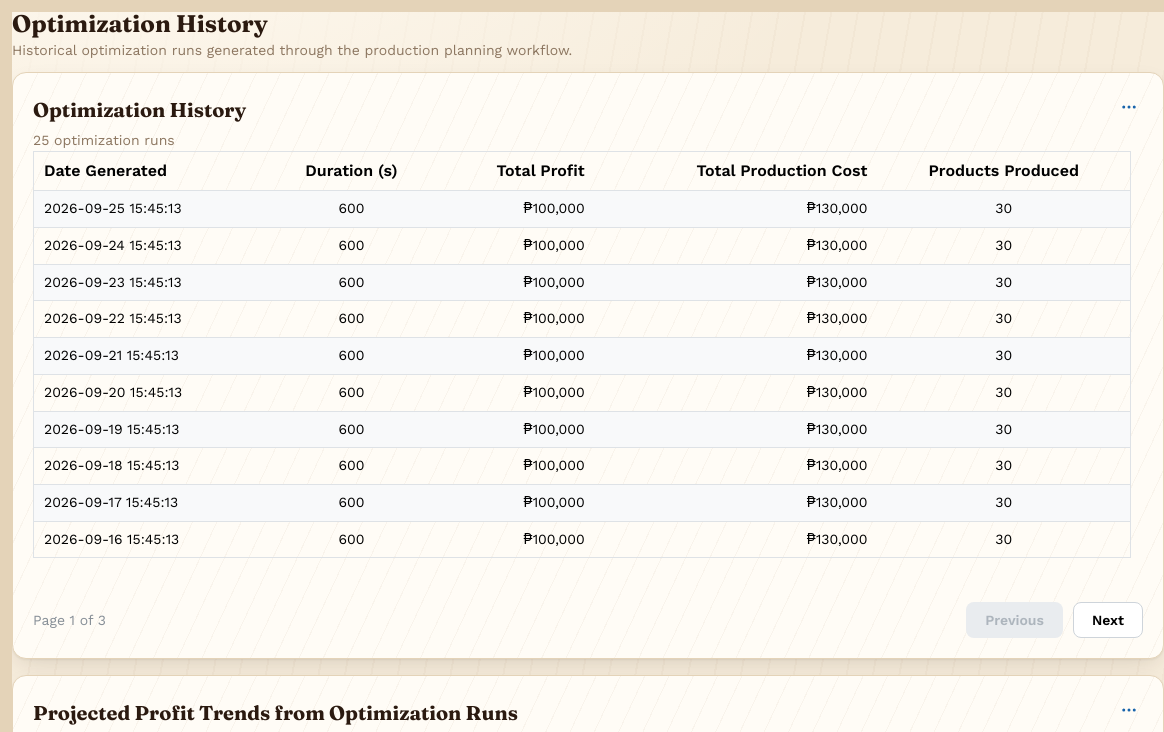
Test case: OptimizationHistoryPage pagination › slices more than 10 runs into pages with bounded Previous/Next
Expected: the text "Page 1 of 3" is shown, x1=33 y1=610 x2=106 y2=630
Expected: the button "Previous" is disabled, x1=966 y1=602 x2=1063 y2=638
Click the button "Next": (1108, 620) x1=1073 y1=602 x2=1143 y2=638
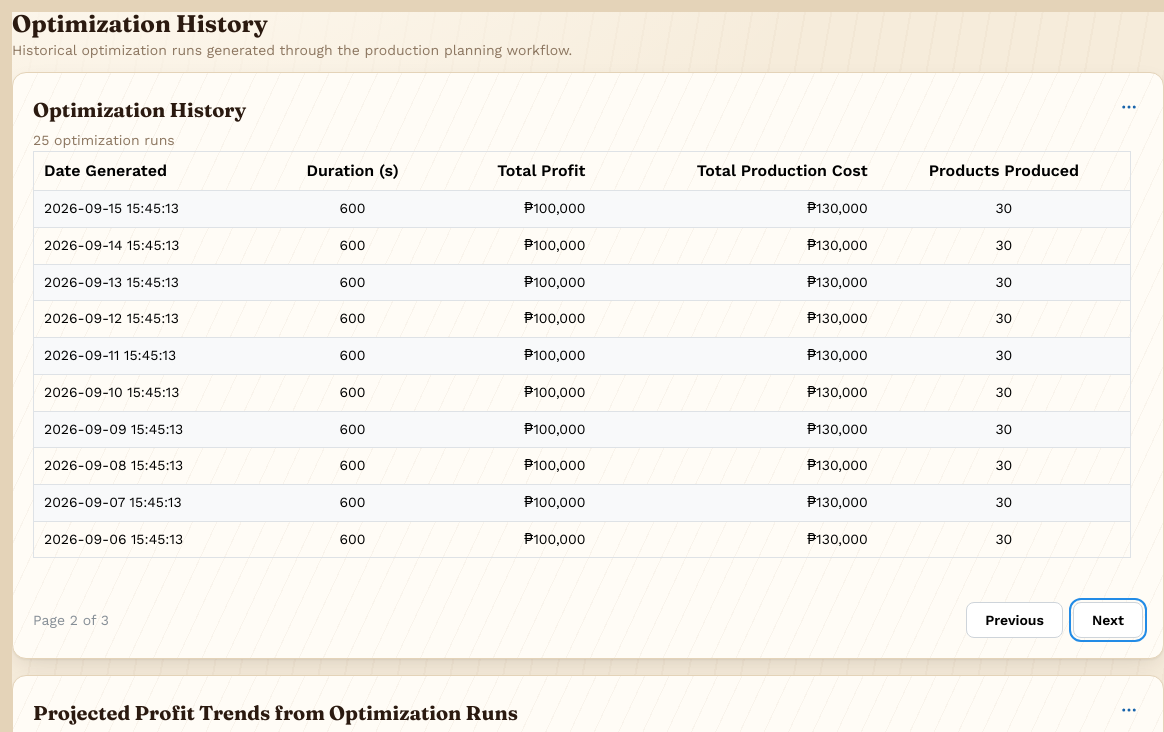
Expected: the text "Page 2 of 3" is shown, x1=33 y1=610 x2=109 y2=630
Expected: the button "Previous" is enabled, x1=966 y1=602 x2=1063 y2=638
Click the button "Next": (1108, 620) x1=1073 y1=602 x2=1143 y2=638
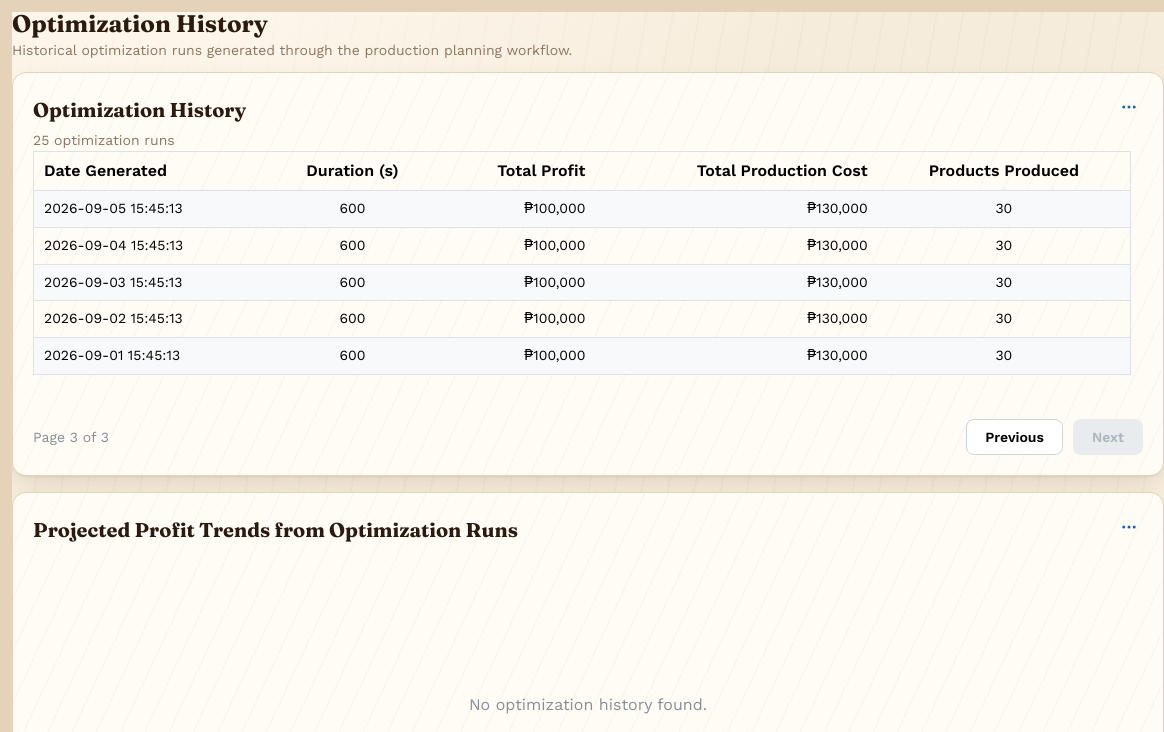
Expected: the text "Page 3 of 3" is shown, x1=33 y1=427 x2=109 y2=447
Expected: the text "2026-09-05 15:45:13" is shown 5 times, x1=34 y1=191 x2=270 y2=228; x1=34 y1=228 x2=270 y2=264; x1=34 y1=264 x2=270 y2=301; x1=34 y1=301 x2=270 y2=338; x1=34 y1=338 x2=270 y2=374
Expected: the button "Next" is disabled, x1=1073 y1=419 x2=1143 y2=455
Click the button "Previous": (1015, 437) x1=966 y1=419 x2=1063 y2=455
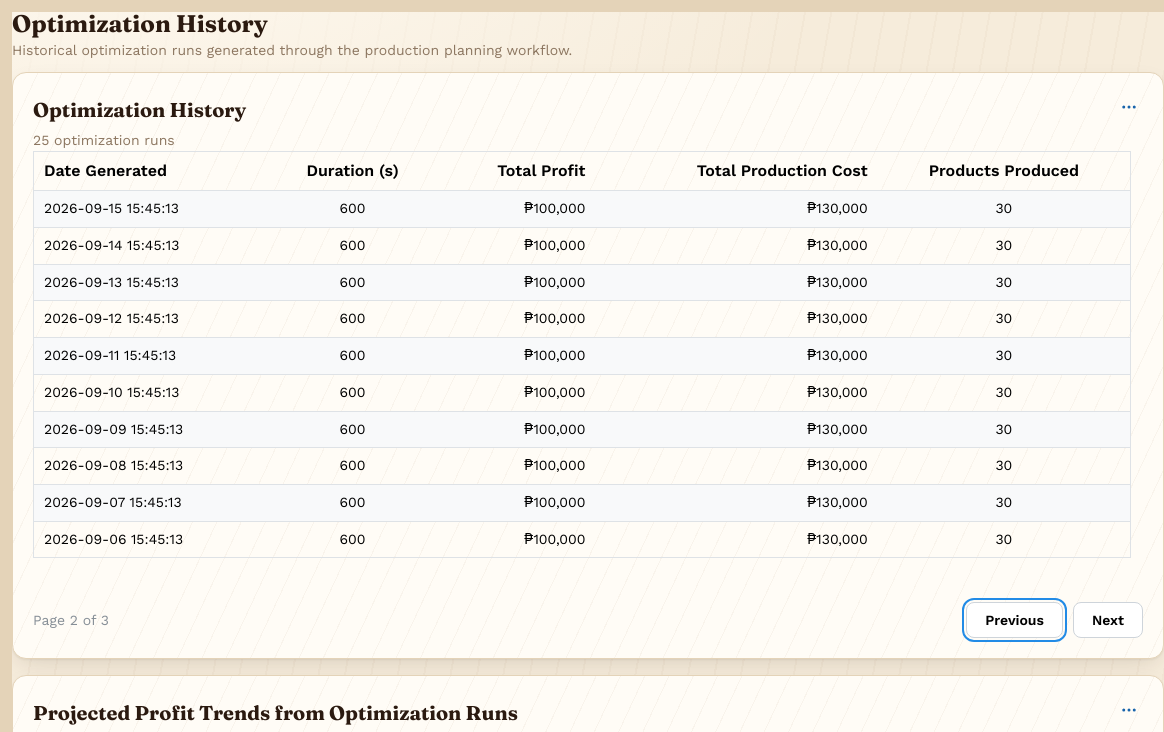
Expected: the text "Page 2 of 3" is shown, x1=33 y1=610 x2=109 y2=630
